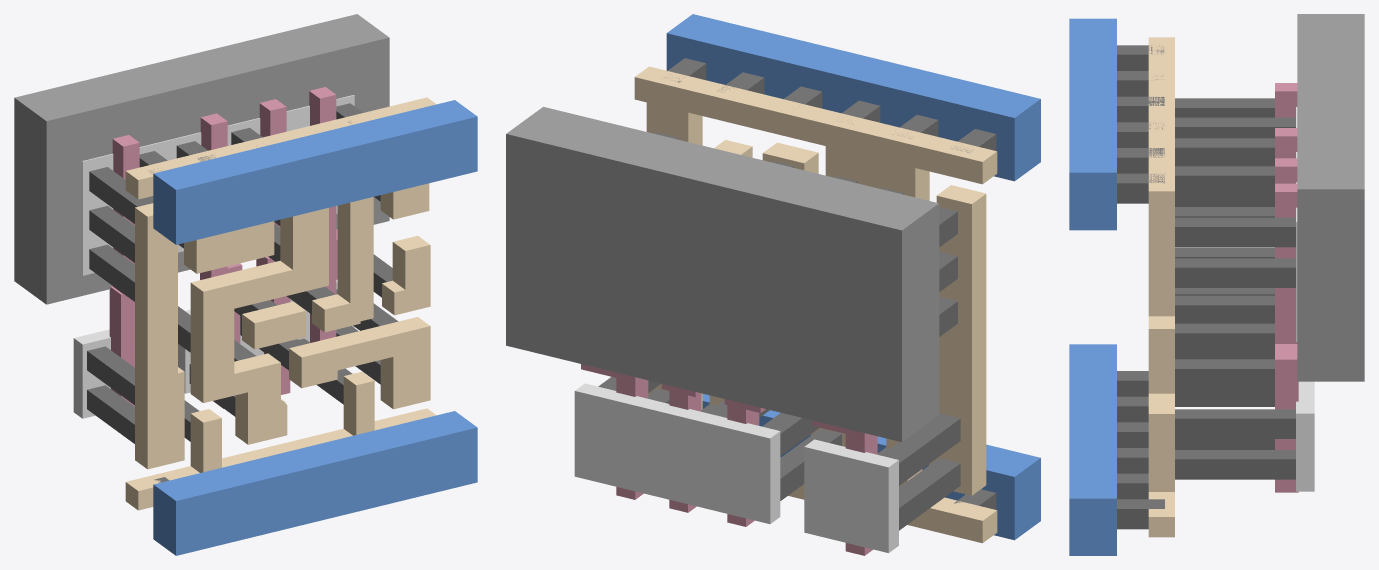
The model's file is sky130_fd_sc_hd__o21a_1.gds.gltf.
3 renders of one model, left to right at view 1: azimuth 30°, elevation 25°; view 2: azimuth 150°, elevation 25°; view 3: azimuth 270°, elevation 25°, orthographic. The views are drawn at different scales.
Parts seen in each view (by area): view 1: sky130_fd_sc_hd__o21a_1_li1, sky130_fd_sc_hd__o21a_1_met1, sky130_fd_sc_hd__o21a_1_nwell, sky130_fd_sc_hd__o21a_1_licon, sky130_fd_sc_hd__o21a_1_poly, sky130_fd_sc_hd__o21a_1_diff; view 2: sky130_fd_sc_hd__o21a_1_nwell, sky130_fd_sc_hd__o21a_1_li1, sky130_fd_sc_hd__o21a_1_diff, sky130_fd_sc_hd__o21a_1_met1, sky130_fd_sc_hd__o21a_1_licon, sky130_fd_sc_hd__o21a_1_poly, sky130_fd_sc_hd__o21a_1_mcon; view 3: sky130_fd_sc_hd__o21a_1_licon, sky130_fd_sc_hd__o21a_1_nwell, sky130_fd_sc_hd__o21a_1_met1, sky130_fd_sc_hd__o21a_1_li1, sky130_fd_sc_hd__o21a_1_mcon, sky130_fd_sc_hd__o21a_1_poly, sky130_fd_sc_hd__o21a_1_diff.
Boxes of the visible parts, bbox=[...] form: sky130_fd_sc_hd__o21a_1_li1: bbox=[125, 97, 436, 510]; sky130_fd_sc_hd__o21a_1_met1: bbox=[153, 100, 477, 555]; sky130_fd_sc_hd__o21a_1_nwell: bbox=[14, 14, 389, 304]; sky130_fd_sc_hd__o21a_1_licon: bbox=[87, 103, 398, 443]; sky130_fd_sc_hd__o21a_1_poly: bbox=[109, 87, 337, 408]; sky130_fd_sc_hd__o21a_1_diff: bbox=[73, 95, 354, 418]; sky130_fd_sc_hd__o21a_1_nwell: bbox=[506, 106, 939, 441]; sky130_fd_sc_hd__o21a_1_li1: bbox=[634, 66, 997, 543]; sky130_fd_sc_hd__o21a_1_diff: bbox=[574, 383, 898, 553]; sky130_fd_sc_hd__o21a_1_met1: bbox=[666, 14, 1040, 540]; sky130_fd_sc_hd__o21a_1_licon: bbox=[598, 132, 960, 530]; sky130_fd_sc_hd__o21a_1_poly: bbox=[581, 364, 877, 555]; sky130_fd_sc_hd__o21a_1_mcon: bbox=[662, 58, 996, 509]; sky130_fd_sc_hd__o21a_1_licon: bbox=[1175, 98, 1295, 479]; sky130_fd_sc_hd__o21a_1_nwell: bbox=[1297, 14, 1364, 381]; sky130_fd_sc_hd__o21a_1_met1: bbox=[1069, 18, 1116, 555]; sky130_fd_sc_hd__o21a_1_li1: bbox=[1148, 37, 1174, 537]; sky130_fd_sc_hd__o21a_1_mcon: bbox=[1117, 45, 1164, 529]; sky130_fd_sc_hd__o21a_1_poly: bbox=[1275, 83, 1298, 492]; sky130_fd_sc_hd__o21a_1_diff: bbox=[1296, 107, 1314, 491].
Bounding box in the file's own units: 3.14 × 3.2 × 2.24.
